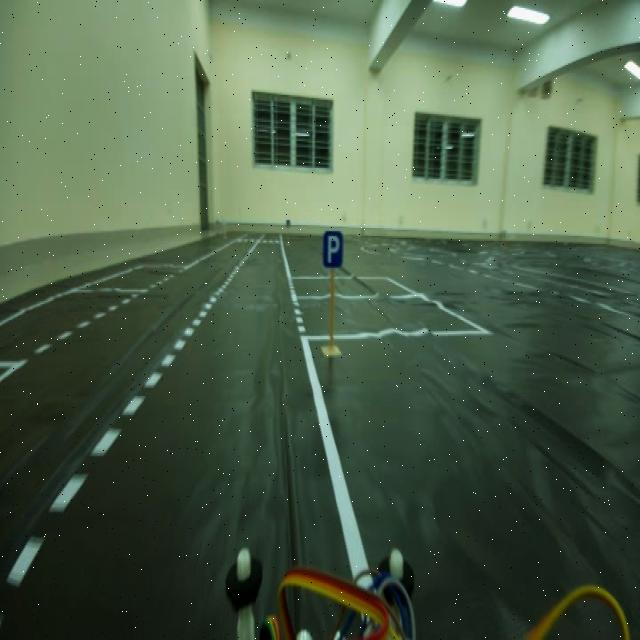parking: (321, 232, 347, 272)
